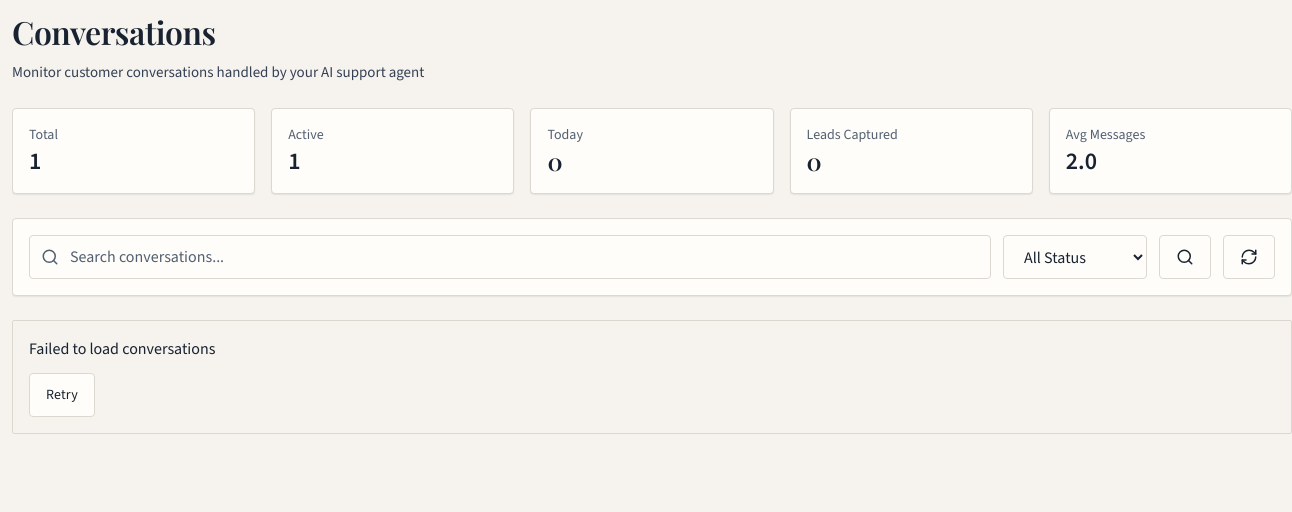
Test case: Conversations search, filters, retry, and accessibility › retries a failed request and recovers when the service returns data
Click the button "Retry" at (62, 395), box [29, 373, 95, 417]
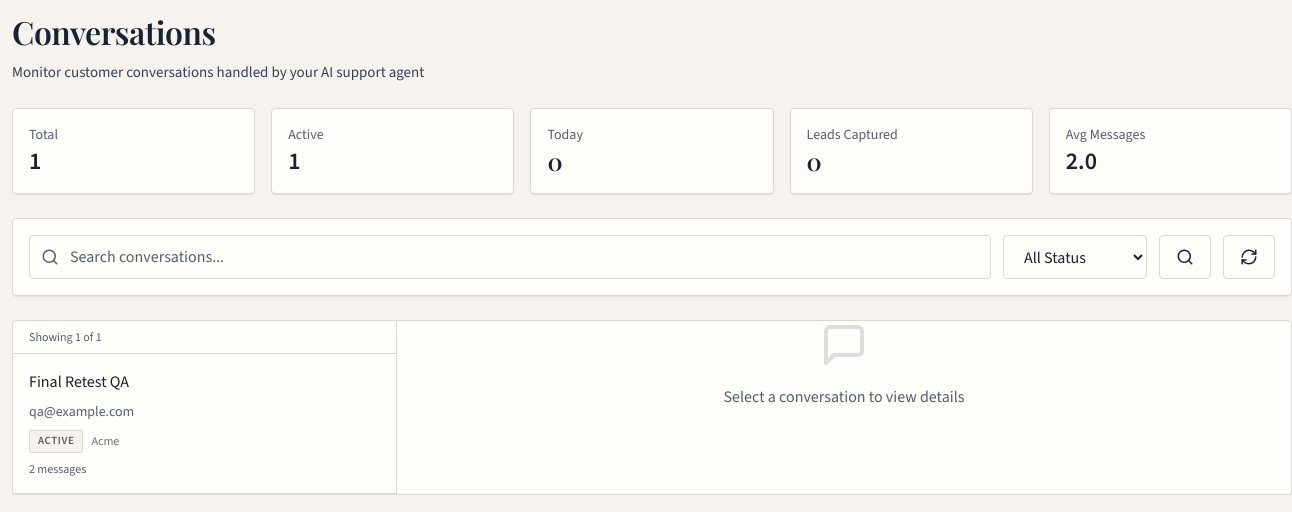
Expected: the text "Final Retest QA" is shown, [29, 370, 129, 394]
